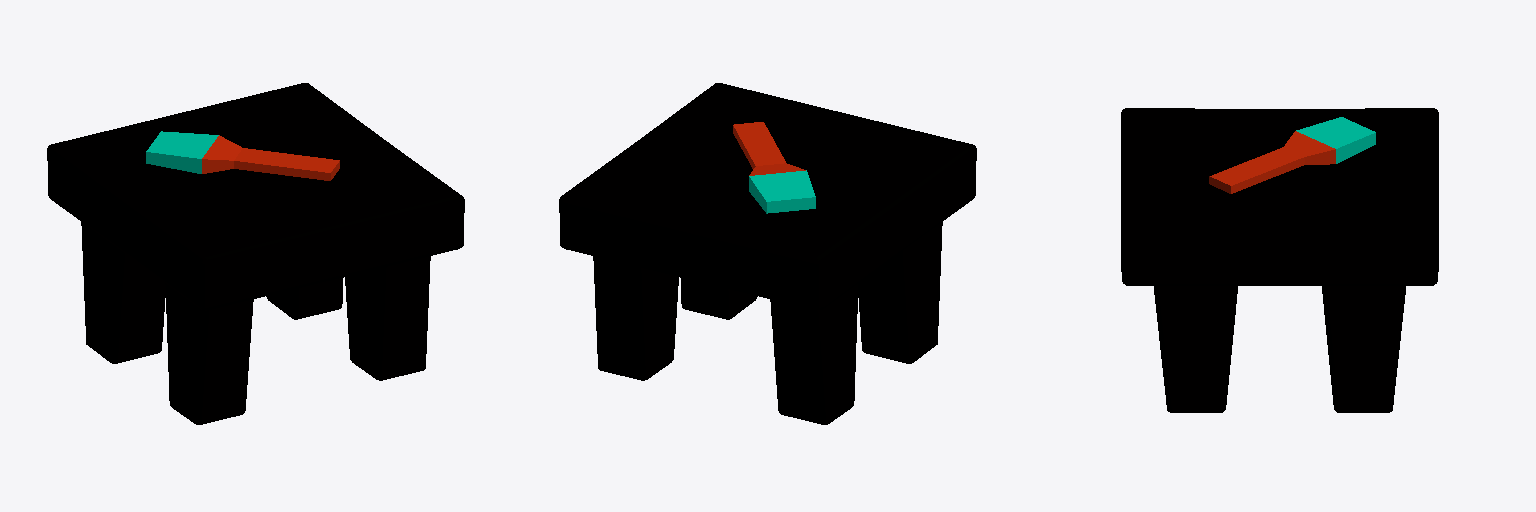
Rendered from table_brush.obj.
3 renders of one model, left to right at view 1: azimuth 30°, elevation 25°; view 2: azimuth 150°, elevation 25°; view 3: azimuth 270°, elevation 25°, orthographic.
Visible parts, largest first — view 1: tableSmall_Cube.4217, Cube; view 2: tableSmall_Cube.4217, Cube; view 3: tableSmall_Cube.4217, Cube.
Part boxes in pixels (x1,y1,x2,y2): tableSmall_Cube.4217: (47, 83, 464, 424); Cube: (146, 131, 339, 180); tableSmall_Cube.4217: (559, 83, 976, 424); Cube: (733, 122, 815, 213); tableSmall_Cube.4217: (1121, 108, 1438, 412); Cube: (1209, 117, 1375, 193).
Size of the model in its own units: 1.04 by 0.7758 by 1.09.